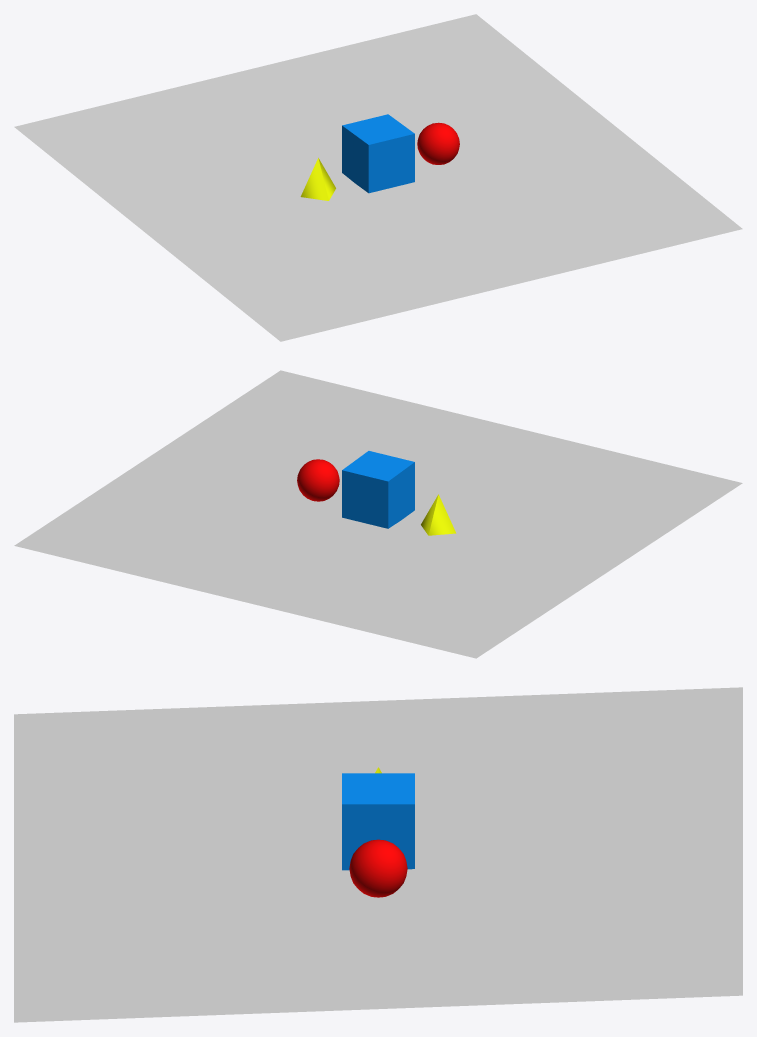
The model's file is complex.dae.
The picture shows the model from 3 angles, top to bottom: view 1: azimuth 30°, elevation 25°; view 2: azimuth 150°, elevation 25°; view 3: azimuth 270°, elevation 25°; orthographic projection. The views are drawn at different scales.
Parts seen in each view (by area): view 1: Plane, Box, Icosahedron, Cylinder; view 2: Plane, Box, Icosahedron, Cylinder; view 3: Plane, Box, Icosahedron.
Part boxes in pixels (<box>): Plane: <box>14,14,742,341</box>; Box: <box>342,114,414,193</box>; Icosahedron: <box>417,122,459,164</box>; Cylinder: <box>300,158,335,200</box>; Plane: <box>14,370,742,658</box>; Box: <box>342,451,414,528</box>; Icosahedron: <box>297,459,339,501</box>; Cylinder: <box>421,494,456,535</box>; Plane: <box>14,687,742,1022</box>; Box: <box>342,773,414,870</box>; Icosahedron: <box>349,839,407,897</box>.
Size of the model in its own units: 10 by 1.2 by 9.99.
